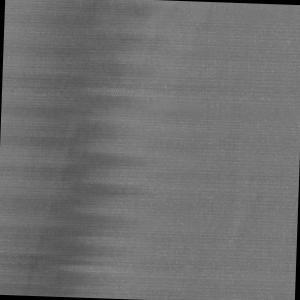Wrinkle: (1, 1, 154, 300)
